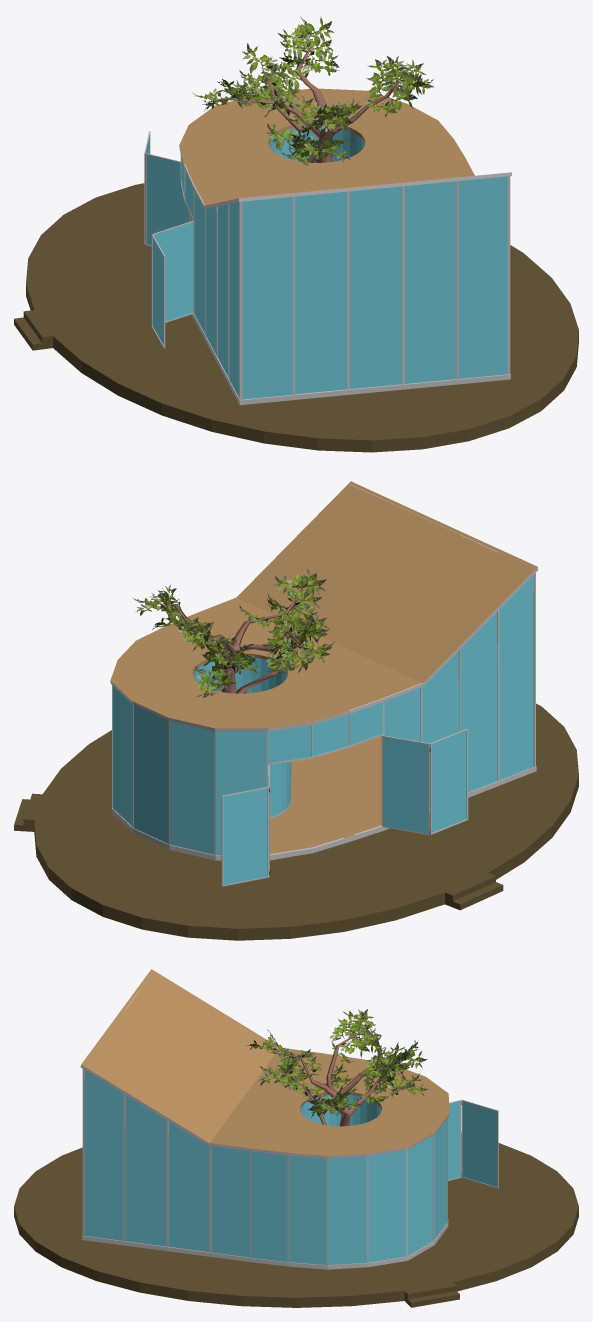
Rendered from pavilion hub .fbx.
The picture shows the model from 3 angles, top to bottom: view 1: azimuth 30°, elevation 25°; view 2: azimuth 150°, elevation 25°; view 3: azimuth 270°, elevation 25°; orthographic projection. The views are drawn at different scales.
Parts seen in each view (by area): view 1: hub, tree; view 2: hub, tree; view 3: hub, tree.
Boxes of the visible parts, box(x1,y1,x2,y2) form: hub: box(14, 88, 578, 452); tree: box(193, 16, 433, 165); hub: box(14, 481, 578, 940); tree: box(133, 568, 334, 697); hub: box(14, 969, 578, 1307); tree: box(247, 1009, 428, 1126).
Size of the model in its own units: 1388 by 694 by 1761.
